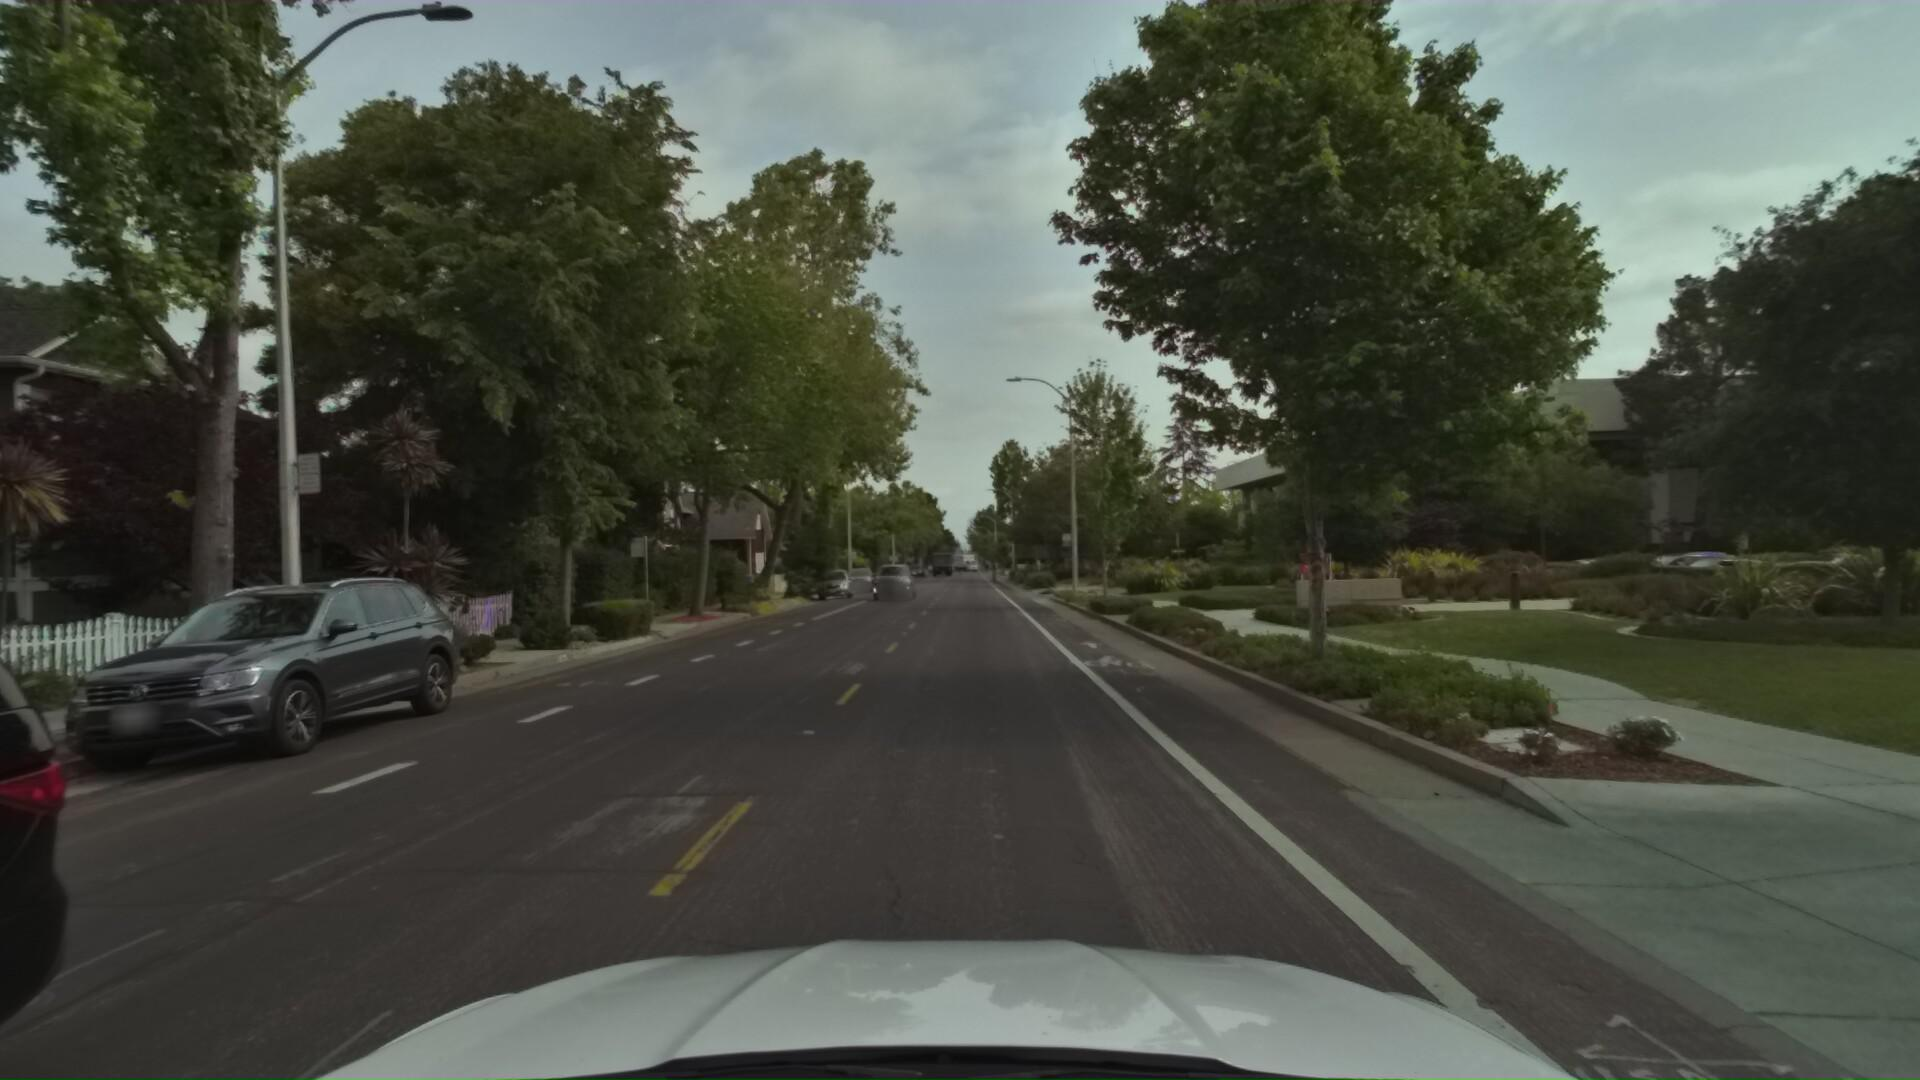car: (866, 564, 913, 605), (812, 568, 853, 604), (839, 564, 880, 596)
